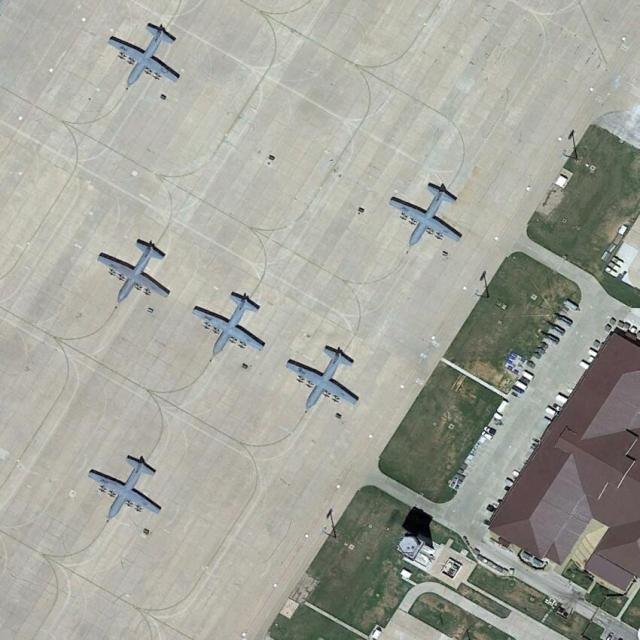fighter jet: (184, 292, 271, 351), (107, 20, 182, 87), (395, 180, 465, 244), (95, 238, 166, 300), (285, 355, 365, 410), (89, 457, 160, 518)
